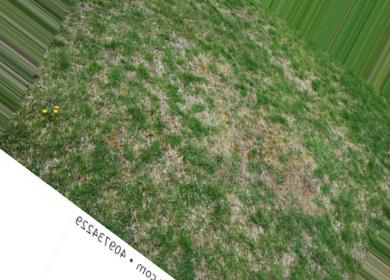patch: (234, 143, 251, 163), (221, 138, 235, 158), (302, 197, 319, 212), (274, 184, 294, 193), (289, 169, 303, 181), (210, 112, 222, 124), (168, 149, 177, 161), (234, 112, 241, 122)
